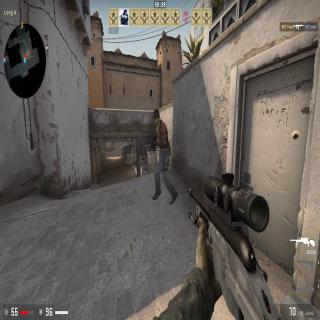T-Body: (150, 110, 174, 204)
T-Head: (152, 110, 160, 124)
